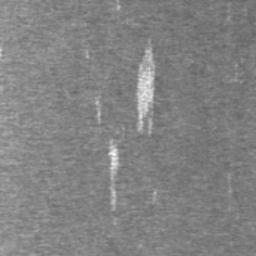White rust: (135, 33, 156, 137), (108, 137, 119, 181), (110, 184, 116, 214), (96, 93, 101, 125)
